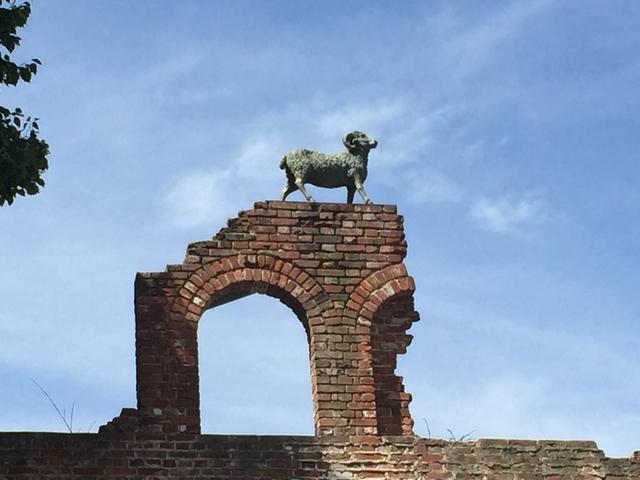sheep: (266, 119, 394, 220)
